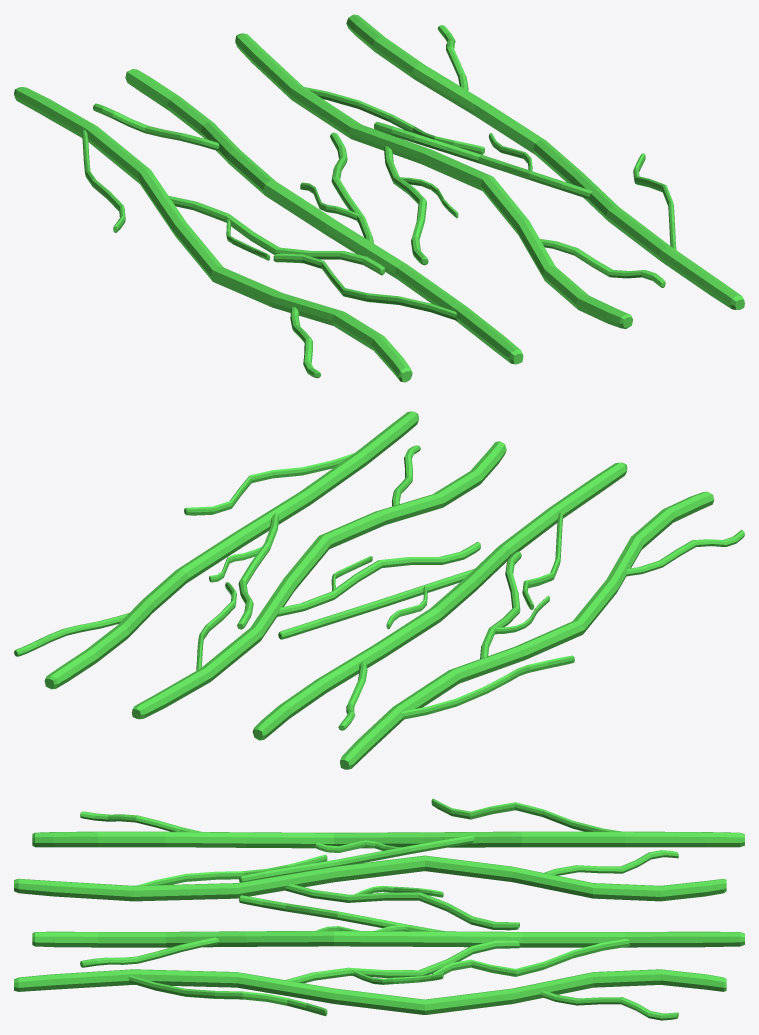
The model's file is vines.fbx.
3 views of the same model, one above another, from view 1: azimuth 30°, elevation 25°; view 2: azimuth 150°, elevation 25°; view 3: azimuth 270°, elevation 25° (orthographic). The views are drawn at different scales.
Visible parts, largest first — view 1: Cube.023, Cube.019, Cube.024, Cube.022; view 2: Cube.022, Cube.024, Cube.019, Cube.023; view 3: Cube.024, Cube.023, Cube.022, Cube.019.
Part boxes in pixels (box(x1,y1,x2,y2)): Cube.023: box(93, 69, 523, 364); Cube.019: box(235, 33, 665, 328); Cube.024: box(346, 14, 744, 309); Cube.022: box(14, 87, 412, 382); Cube.022: box(340, 491, 744, 769); Cube.024: box(14, 411, 418, 689); Cube.019: box(132, 441, 506, 719); Cube.023: box(252, 462, 627, 740); Cube.024: box(14, 940, 726, 1020); Cube.023: box(14, 850, 726, 930); Cube.022: box(32, 798, 744, 882); Cube.019: box(32, 895, 744, 976).
Size of the model in its own units: 774 by 63.8 by 1126.
